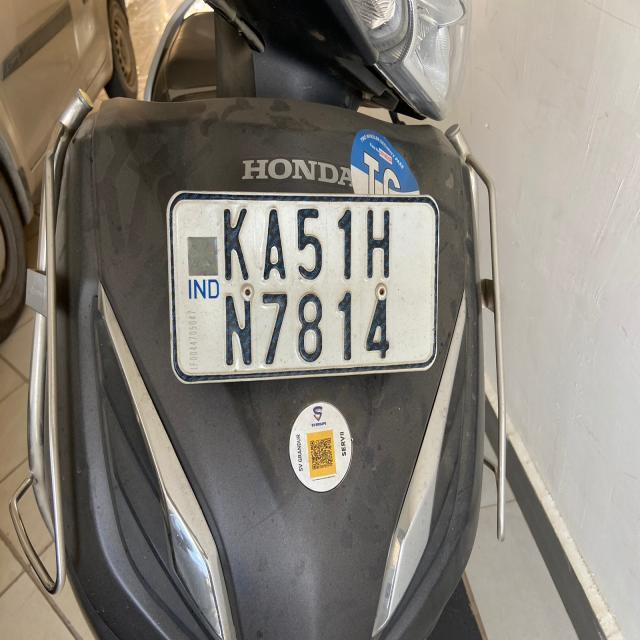1: (335, 198, 358, 282), (336, 287, 359, 367)
4: (362, 280, 394, 363)
5: (293, 194, 328, 286)
7: (260, 287, 293, 368)
8: (294, 292, 325, 364)
A: (258, 198, 290, 286)
H: (365, 202, 394, 282)
K: (221, 200, 256, 287)
N: (222, 288, 254, 375)
